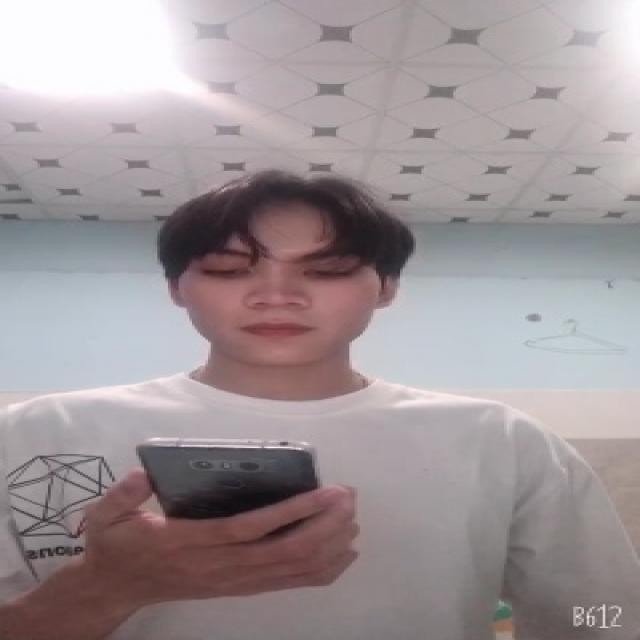Phone: (136, 438, 324, 521)
